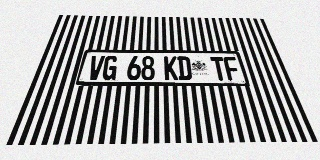6: (126, 56, 142, 80)
8: (141, 56, 155, 80)
D: (177, 56, 192, 80)
F: (223, 57, 242, 80)
G: (101, 56, 118, 80)
K: (164, 56, 178, 80)
T: (210, 57, 228, 80)
V: (86, 56, 105, 80)
